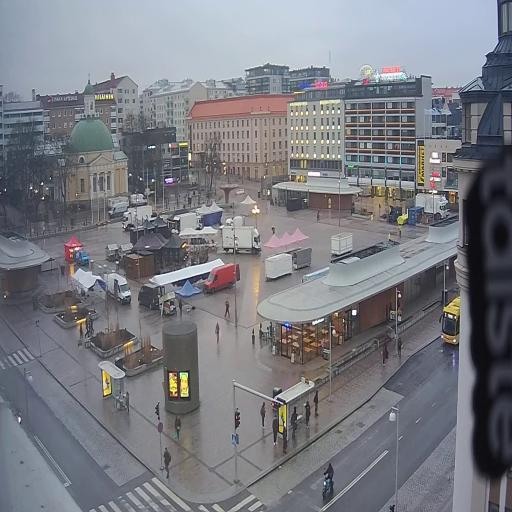bus: (439, 290, 465, 350)
delivery: (220, 224, 266, 260), (202, 258, 244, 296), (408, 192, 448, 224), (106, 270, 132, 310), (137, 279, 165, 314), (171, 210, 205, 234), (121, 206, 154, 230), (105, 199, 130, 219), (222, 212, 249, 230), (130, 190, 152, 208), (74, 245, 90, 269)
two-wheels: (318, 458, 339, 504)
